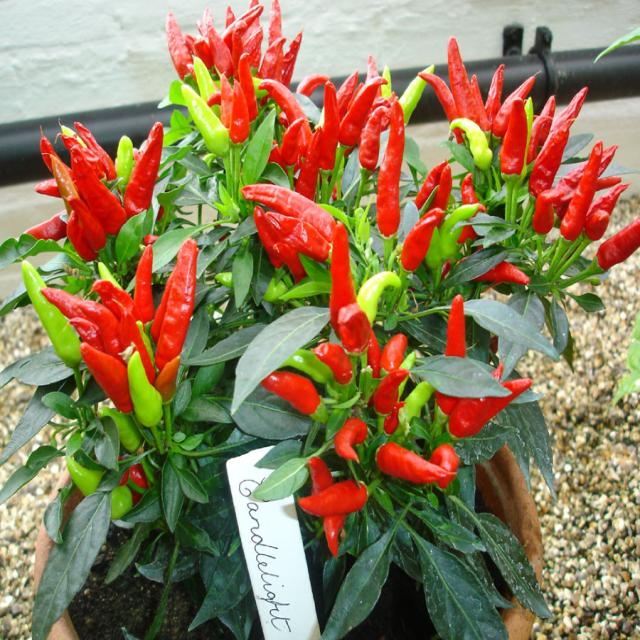Chilli Pepper: (24, 4, 627, 576), (236, 228, 494, 572), (18, 226, 215, 514), (426, 41, 640, 301), (257, 28, 438, 255), (125, 0, 343, 186), (32, 80, 176, 255), (427, 245, 508, 414), (156, 16, 232, 189), (55, 101, 131, 253), (150, 207, 210, 384), (122, 106, 188, 260), (178, 57, 237, 221), (540, 113, 603, 266), (300, 437, 378, 547), (26, 255, 90, 384), (312, 211, 371, 338), (367, 80, 411, 244), (308, 62, 352, 212), (489, 69, 532, 205), (372, 420, 449, 492)
